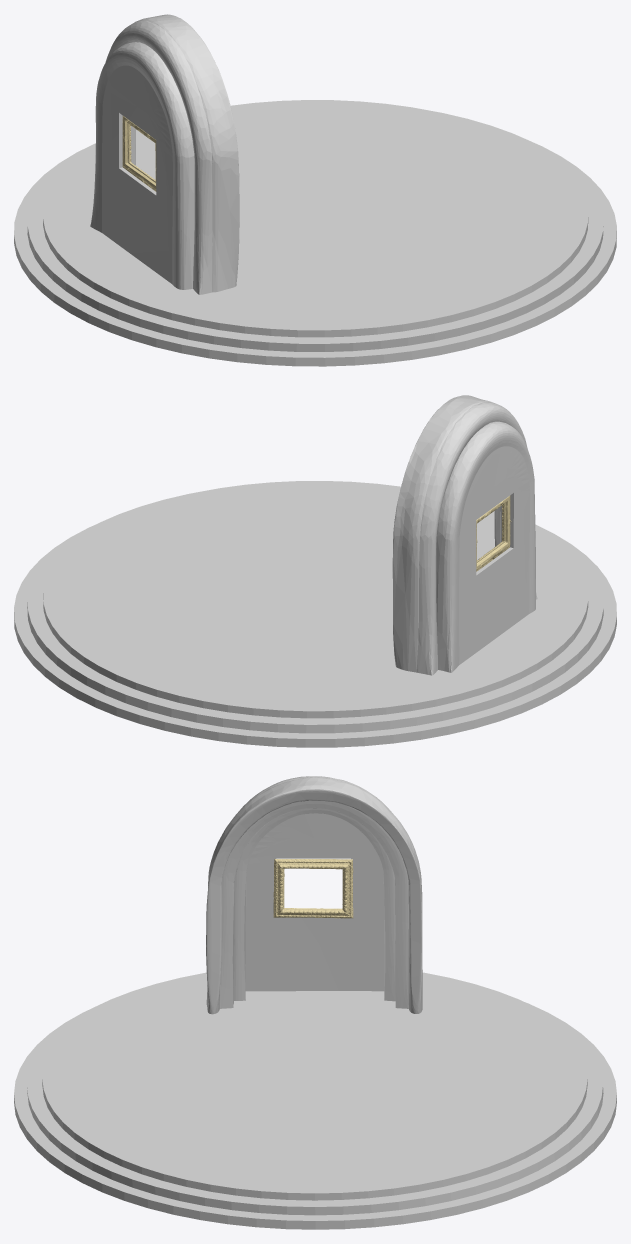
Rendered from env-photographs.glb.
3 views of the same model, one above another, from view 1: azimuth 30°, elevation 25°; view 2: azimuth 150°, elevation 25°; view 3: azimuth 270°, elevation 25° (orthographic).
Parts seen in each view (by area): view 1: Circle, Cylinder, Object_5; view 2: Circle, Cylinder, Object_5; view 3: Circle, Cylinder, Object_5.
Part boxes in pixels (box(x1,y1,x2,y2)): Circle: box(14, 100, 616, 366); Cylinder: box(90, 14, 239, 294); Object_5: box(122, 116, 156, 191); Circle: box(14, 481, 616, 747); Cylinder: box(392, 395, 537, 675); Object_5: box(476, 495, 511, 571); Circle: box(14, 972, 616, 1229); Cylinder: box(206, 776, 422, 1014); Object_5: box(273, 859, 353, 918).
Size of what is drawn, in the model's own units: 8.22 by 3.77 by 8.22.
